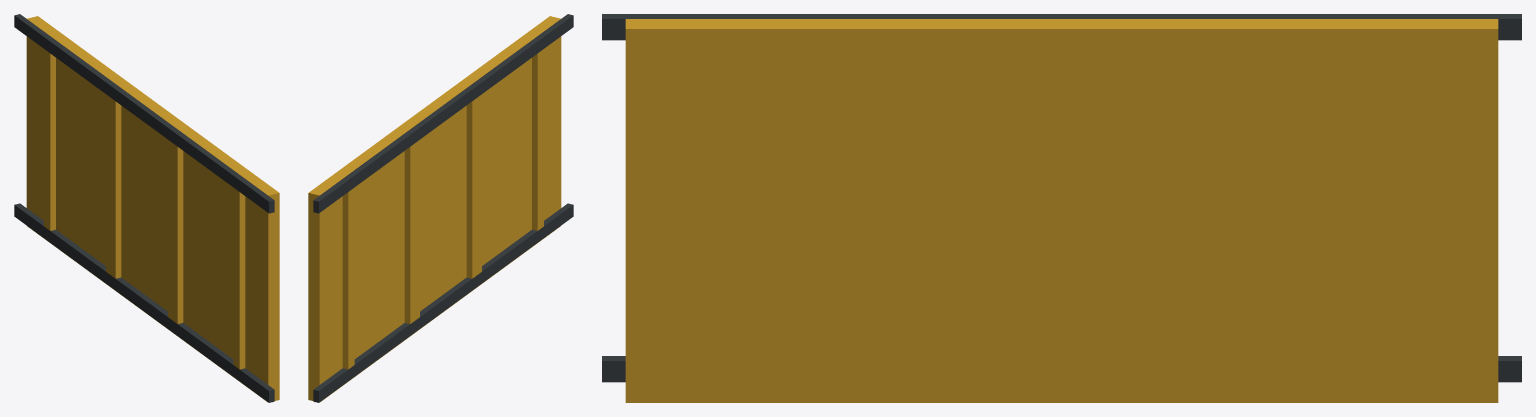
Rendered from tipper_truck_tailgate.glb.
3 renders of one model, left to right at view 1: azimuth 30°, elevation 25°; view 2: azimuth 150°, elevation 25°; view 3: azimuth 270°, elevation 25°, orthographic. The views are drawn at different scales.
Visible parts, largest first — view 1: body:compound; view 2: body:compound; view 3: body:compound.
Part boxes in pixels (<box>): body:compound: <box>14,14,279,402</box>; body:compound: <box>308,14,573,402</box>; body:compound: <box>602,14,1521,402</box>.
Bounding box in the file's own units: 0.0938 × 1.09 × 2.44.
